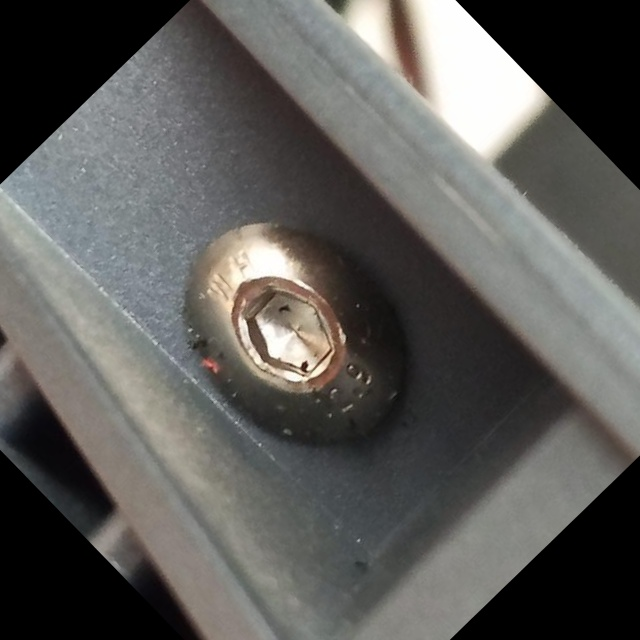allen: (235, 275, 353, 394)
